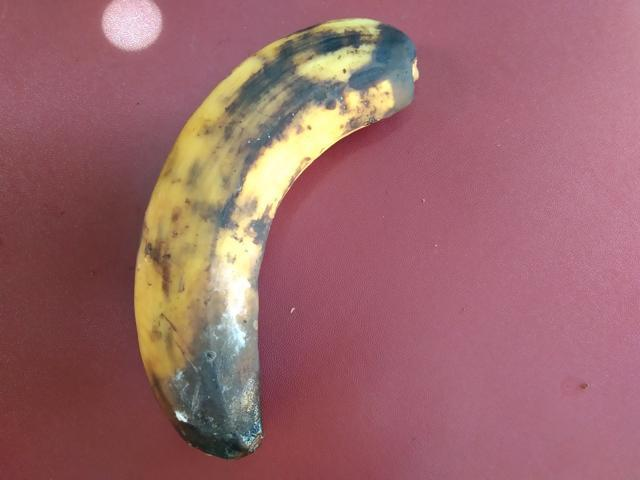rotten: (127, 3, 436, 476)
